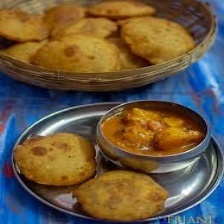sabzi: (100, 100, 207, 157)
